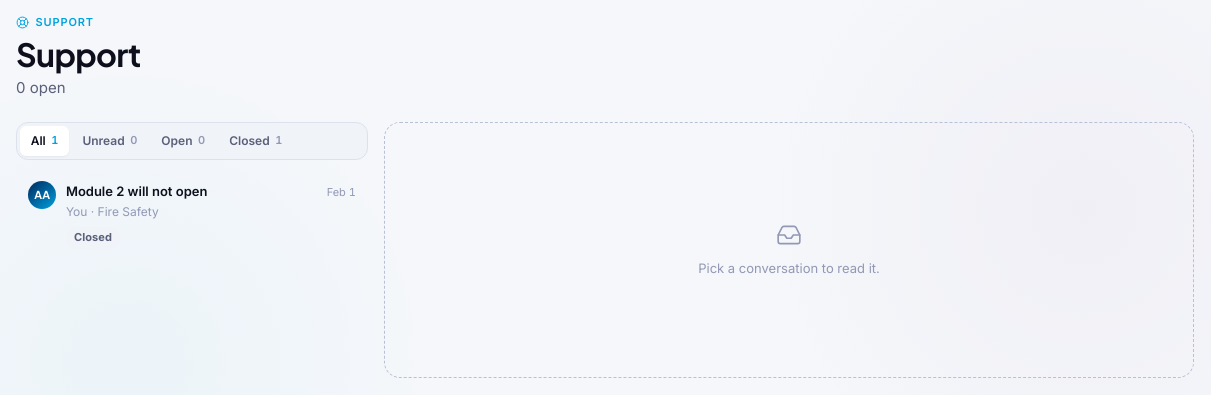
Test: a conversation › offers no reply box on a closed thread, and says why
Click the button "AA Module 2 will not open Feb 1 You · Fire Safety Closed" at [137, 191], box [16,170,368,259]
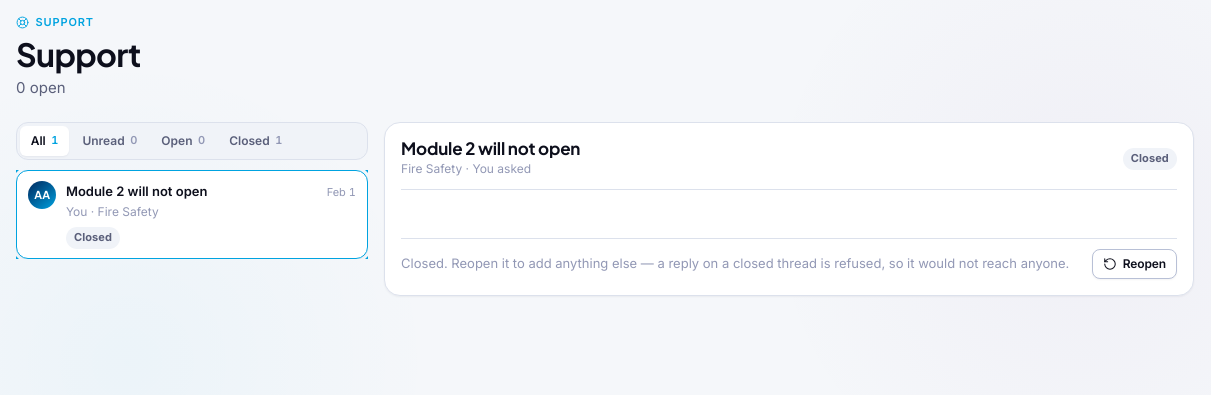
Check: the text "would not reach anyone" is shown, box [401,256,1069,272]
